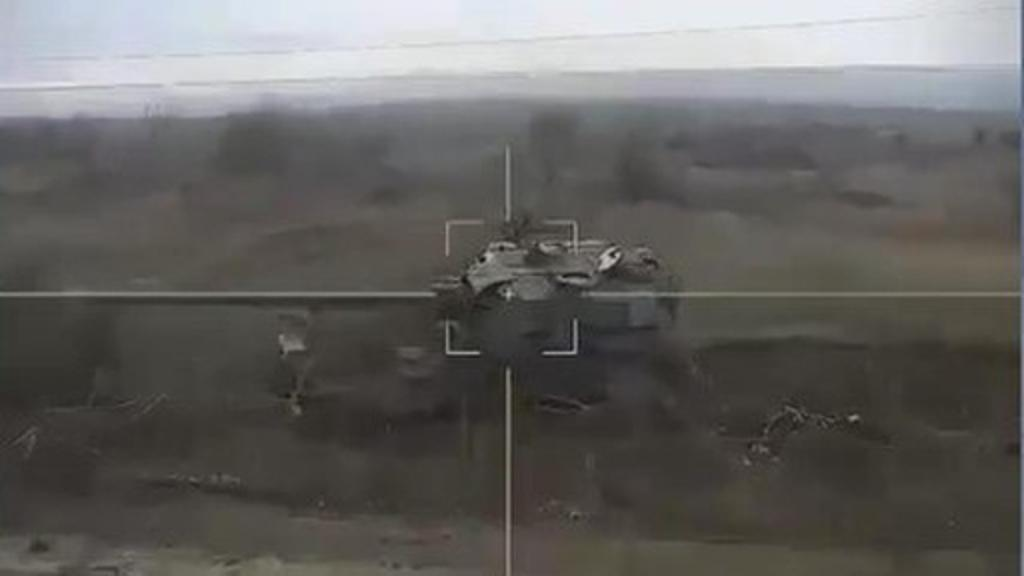ART: (260, 230, 682, 450)
